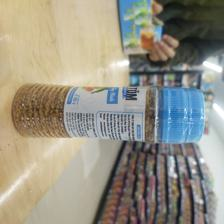TayNinh_blue: (12, 80, 207, 146)
